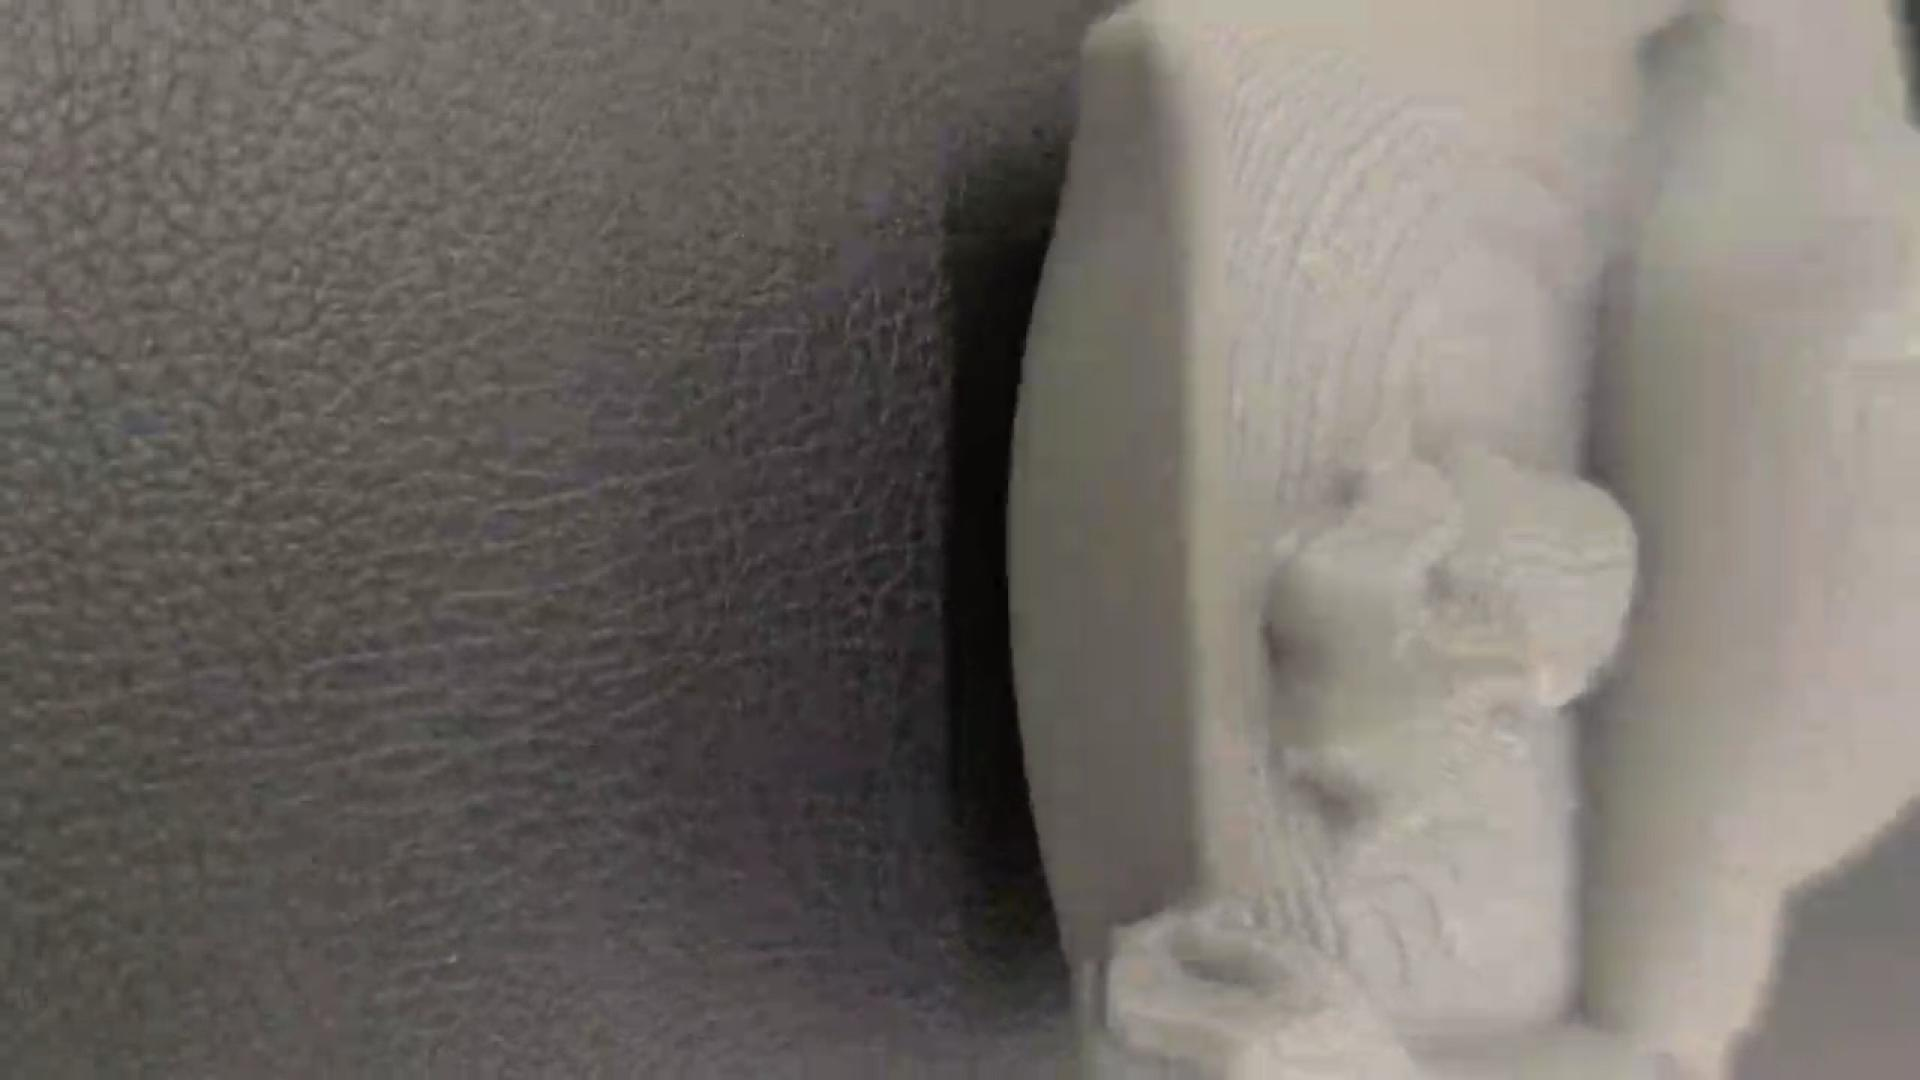Bad-style: (1001, 0, 1919, 1077)
